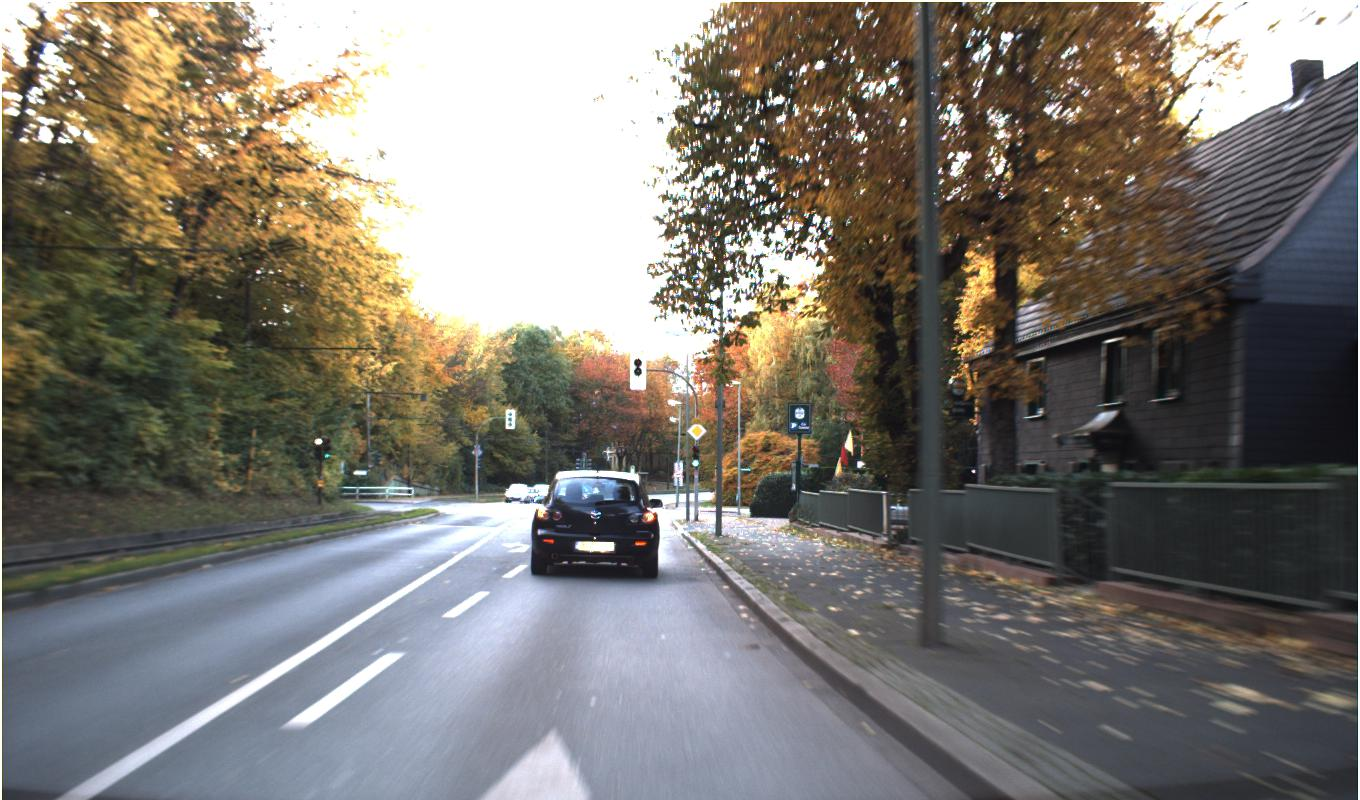sign: (686, 421, 707, 440)
